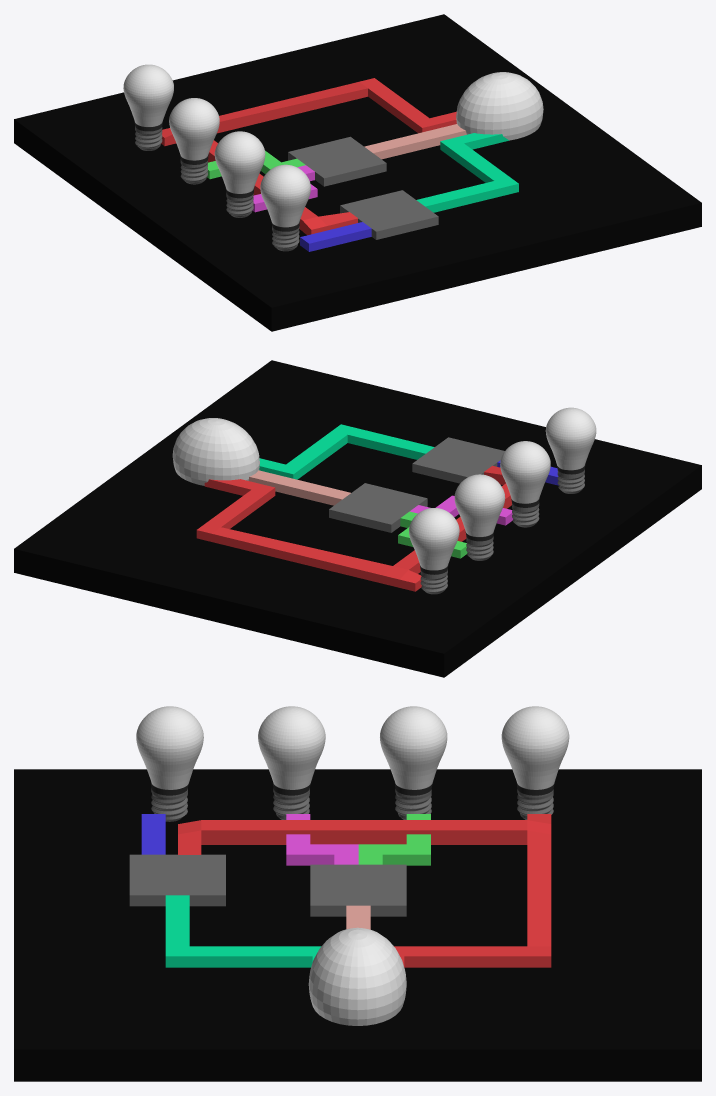
The model's file is logic_circuit.fbx.
3 renders of one model, top to bottom at view 1: azimuth 30°, elevation 25°; view 2: azimuth 150°, elevation 25°; view 3: azimuth 270°, elevation 25°, orthographic. The views are drawn at different scales.
Parts seen in each view (by area): view 1: Board, Bulb, Bulb1, Sphere, Cube, OR, XOR, Screw, OR_L1, Bulb4, Bulb2; view 2: Board, Bulb, Bulb1, Sphere, Cube, OR, XOR, Screw, OR_L1, Bulb2, Bulb3; view 3: Board, Bulb, Bulb1, Sphere, OR, XOR, Cube, Screw, Bulb2, Bulb3, Bulb4, OR_L1.
Part boxes in pixels (x1,y1,x2,y2): Board: (14,14,701,331); Bulb: (123,64,310,227); Bulb1: (161,78,456,235); Sphere: (456,72,543,140); Cube: (416,133,518,212); OR: (288,136,386,186); XOR: (340,190,438,239); Screw: (134,121,299,251); OR_L1: (364,124,466,159); Bulb4: (300,222,371,251); Bulb2: (207,150,305,179); Board: (14,360,701,677); Bulb: (409,407,596,570); Bulb1: (196,465,511,591); Sphere: (172,418,259,485); Cube: (259,424,434,479); OR: (329,483,427,532); XOR: (412,437,504,483); Screw: (420,464,585,594); OR_L1: (248,470,350,505); Bulb2: (398,511,467,558); Bulb3: (410,495,512,525); Board: (14,769,701,1081); Bulb: (136,706,569,789); Bulb1: (178,814,551,967); Sphere: (308,927,406,1025); OR: (310,864,406,916); XOR: (129,854,225,906); Cube: (165,895,320,967); Screw: (151,781,554,821); Bulb2: (358,814,430,865); Bulb3: (286,814,358,865); Bulb4: (141,814,165,854); OR_L1: (346,905,370,929).
Size of the model in its own units: 2751 by 641 by 2854.
